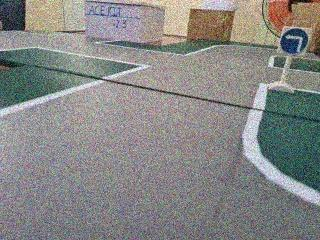left: (273, 23, 313, 61)
